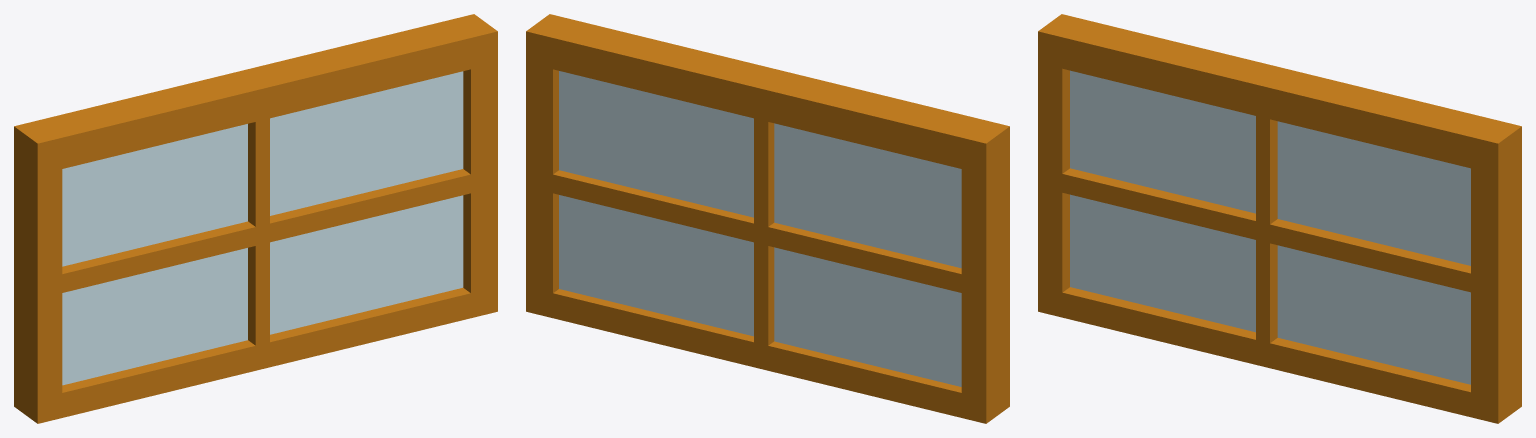
Rendered from ventana1.obj.
The picture shows the model from 3 angles, left to right: view 1: azimuth 30°, elevation 25°; view 2: azimuth 150°, elevation 25°; view 3: azimuth 330°, elevation 25°; orthographic projection.
Visible parts, largest first — view 1: pasted__pasted__pCube17 pasted__group38 group41; view 2: pasted__pasted__pCube17 pasted__group38 group41; view 3: pasted__pasted__pCube17 pasted__group38 group41.
Boxes of the visible parts, x1,y1,x2,y2 form: pasted__pasted__pCube17 pasted__group38 group41: (14, 14, 497, 423); pasted__pasted__pCube17 pasted__group38 group41: (526, 14, 1009, 423); pasted__pasted__pCube17 pasted__group38 group41: (1038, 14, 1521, 423).
Size of the model in its own units: 1.95 by 1.14 by 0.1744.
1 material, 1 textured.
